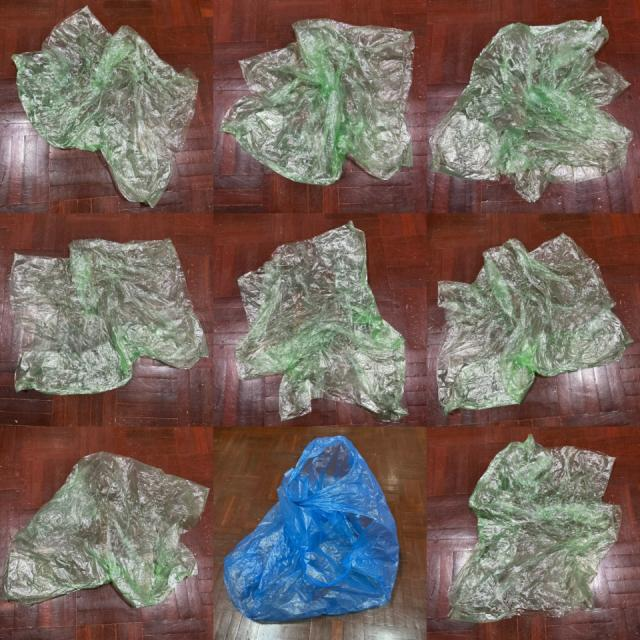Single-layer Plastic: (12, 6, 198, 207), (429, 18, 632, 201), (438, 234, 632, 413), (235, 222, 408, 421), (224, 436, 399, 621), (449, 435, 621, 622), (2, 452, 209, 607), (221, 19, 414, 184), (10, 239, 209, 395)
